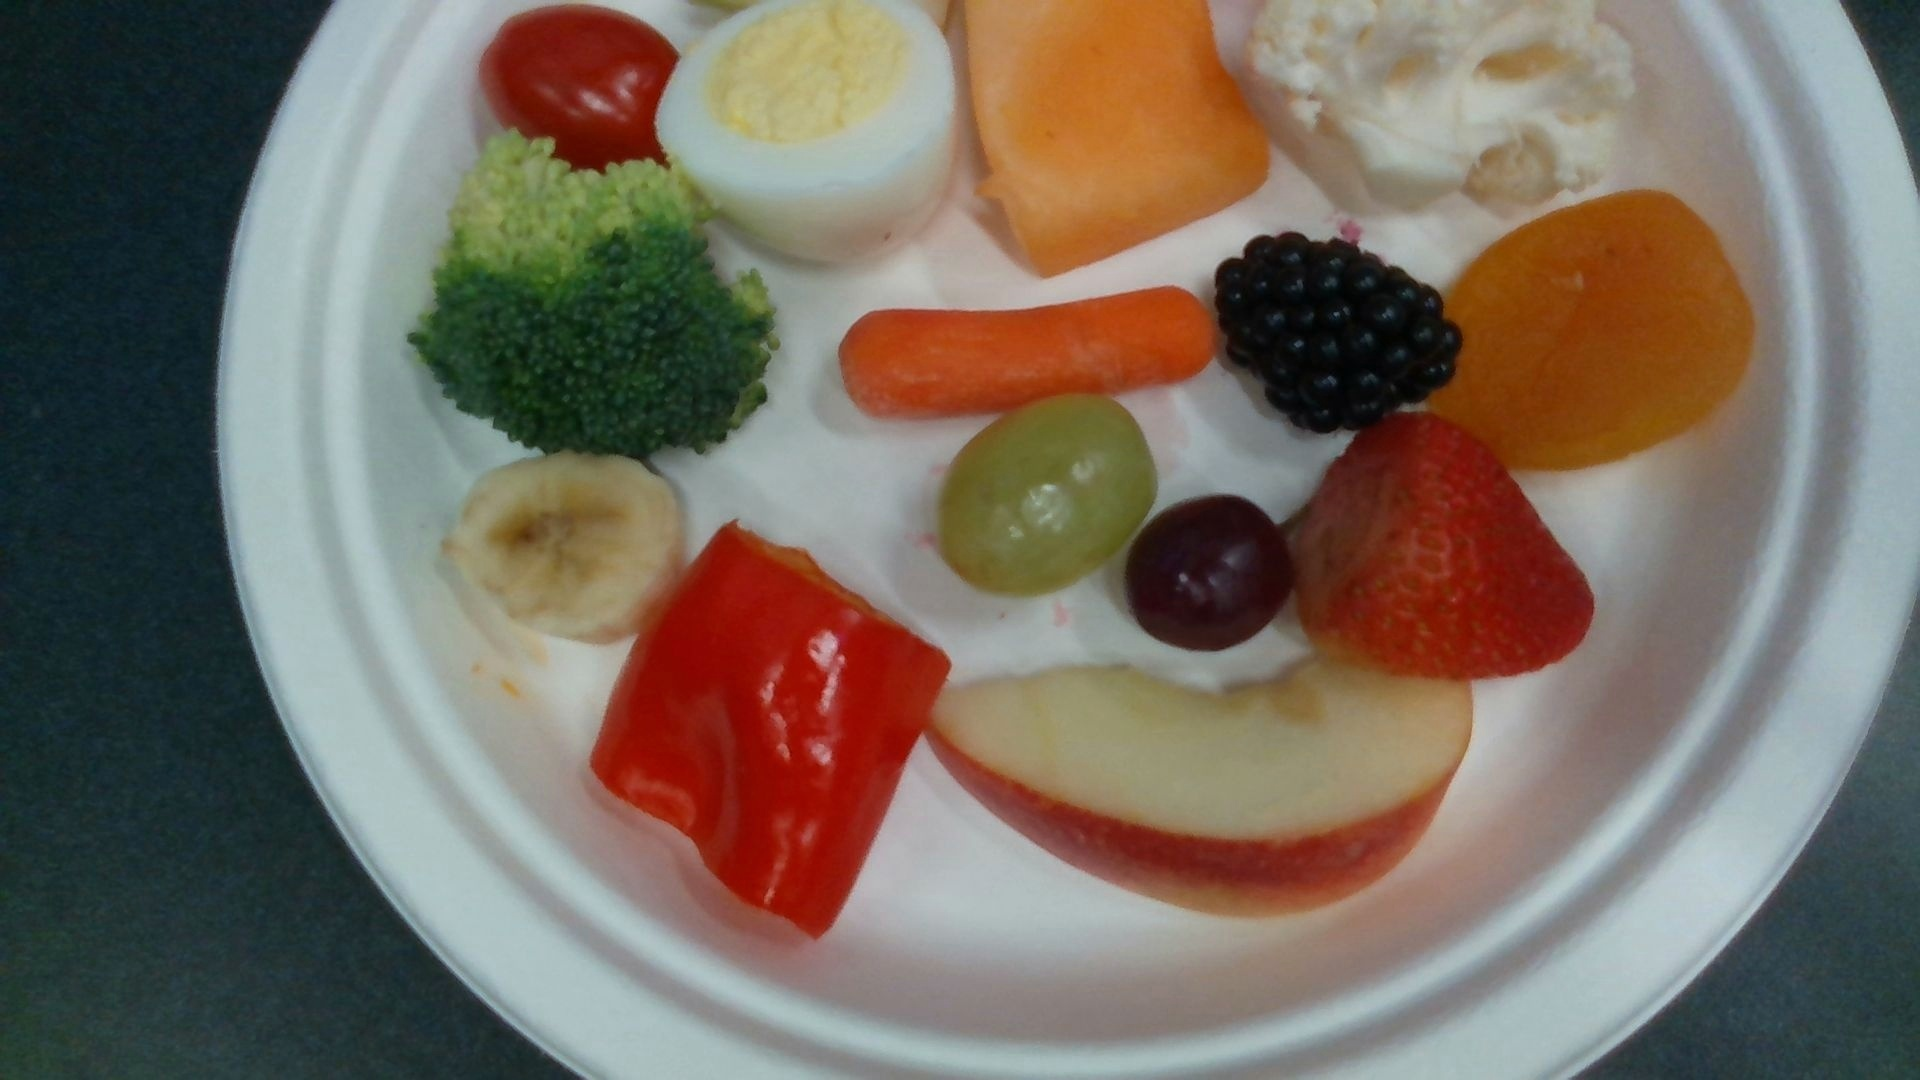apple: (932, 669, 1474, 911)
apricot: (1440, 191, 1753, 463)
banana: (447, 454, 680, 638)
bell_pepper: (592, 526, 942, 928)
blackberry: (1218, 233, 1452, 421)
broccoli: (410, 133, 764, 448)
cantalope: (965, 1, 1265, 270)
carrot: (844, 287, 1211, 418)
cauliflower: (1249, 1, 1636, 204)
cherry_tomato: (480, 7, 675, 170)
egg: (655, 1, 963, 268)
grape_green: (940, 396, 1155, 593)
grape_purple: (1127, 498, 1290, 647)
strawberry: (1288, 421, 1592, 680)
